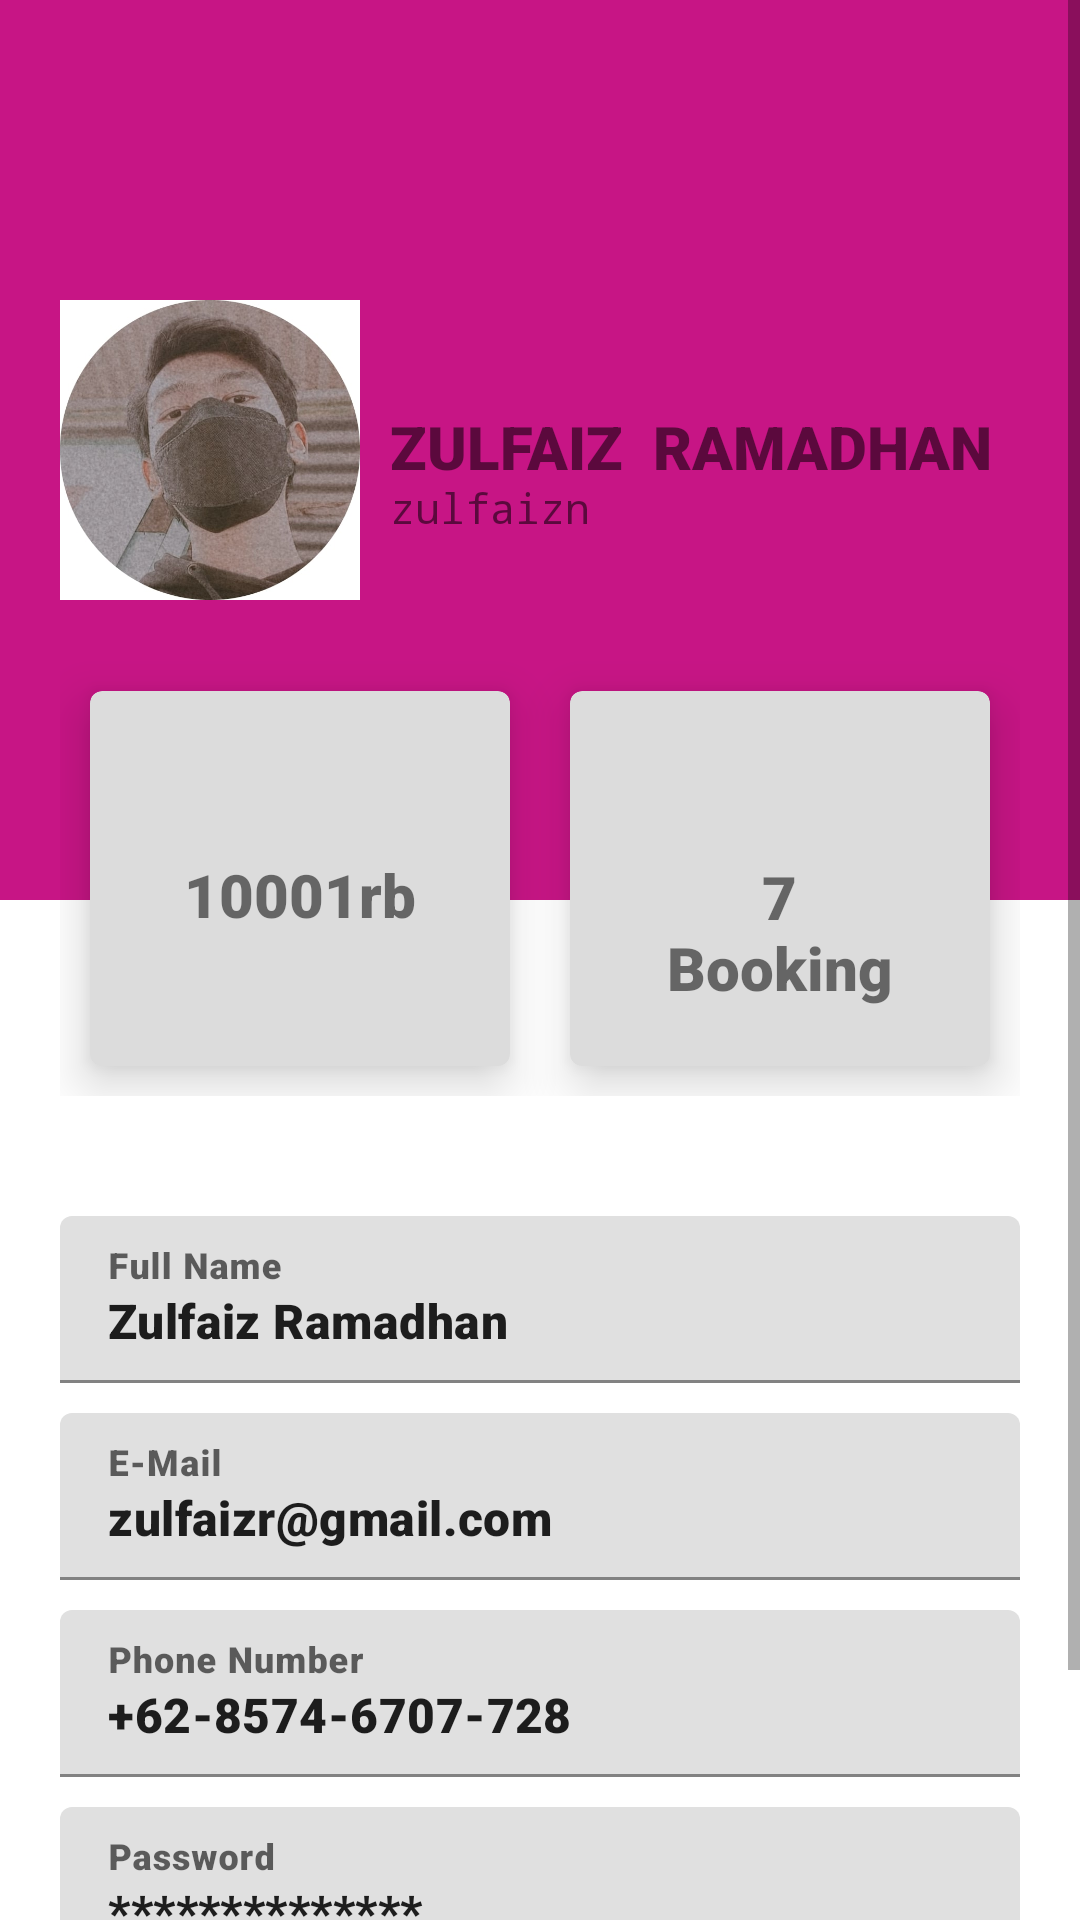

Icon click points for this 1080w x 1920h phone screenshot, format [x,y]:
gambar: [210,450]
